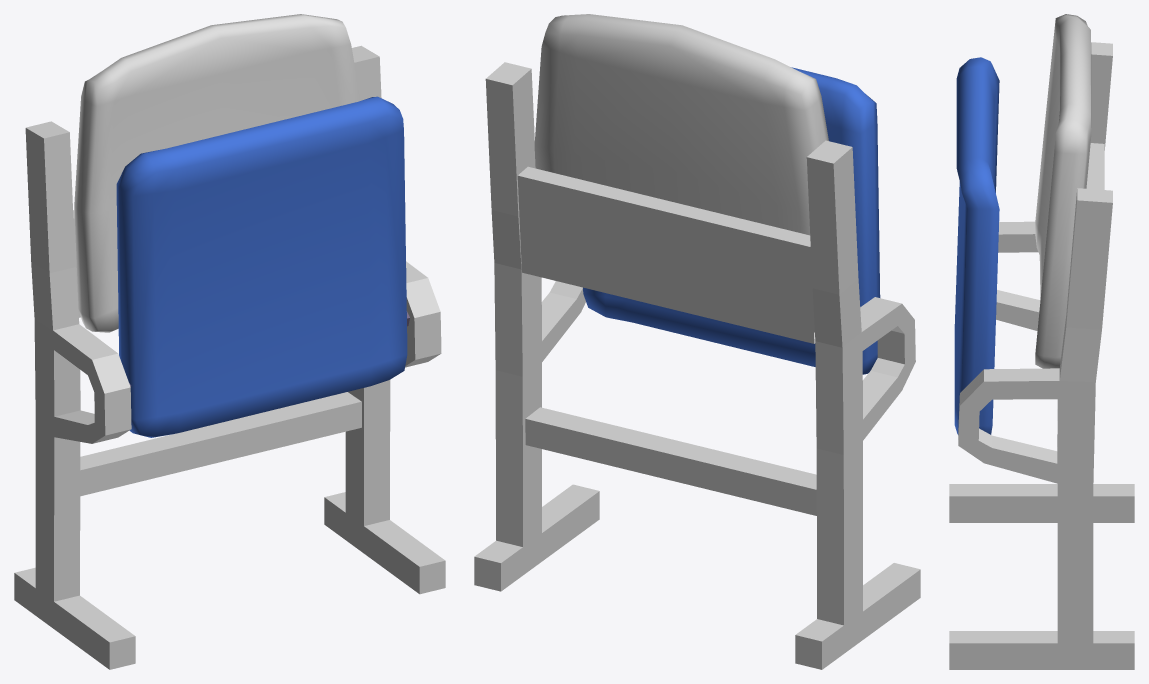
Rendered from Chair-Folding_01.fbx.
3 views of the same model, side by side, from view 1: azimuth 30°, elevation 25°; view 2: azimuth 150°, elevation 25°; view 3: azimuth 270°, elevation 25° (orthographic). The views are drawn at different scales.
Visible parts, largest first — view 1: Seat, Backrest, Chair_Post_L, Chair_Post_R, Frame; view 2: Backrest, Frame, Chair_Post_L, Chair_Post_R, Seat; view 3: Chair_Post_R, Seat, Backrest, Chair_Post_L, Frame.
Part boxes in pixels (<box>): Seat: <box>116,96,409,437</box>; Backrest: <box>74,14,360,332</box>; Chair_Post_L: <box>14,121,135,669</box>; Chair_Post_R: <box>324,45,445,594</box>; Frame: <box>73,210,361,496</box>; Backrest: <box>534,14,828,235</box>; Frame: <box>517,166,816,515</box>; Chair_Post_L: <box>795,140,920,669</box>; Chair_Post_R: <box>474,62,599,591</box>; Seat: <box>583,67,880,374</box>; Chair_Post_R: <box>949,188,1134,669</box>; Seat: <box>954,57,999,434</box>; Backrest: <box>1035,14,1091,368</box>; Chair_Post_L: <box>949,42,1134,522</box>; Frame: <box>1086,143,1104,189</box>.
Bounding box in the file's own units: 64.96 × 103 × 31.88.
